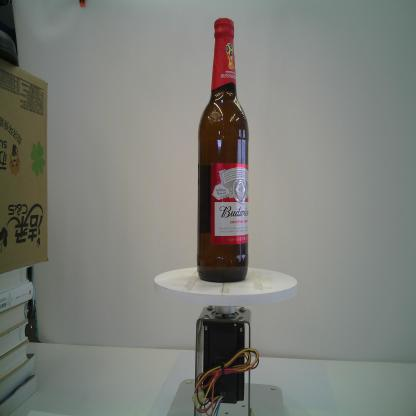Alcohol: (194, 14, 250, 284)
